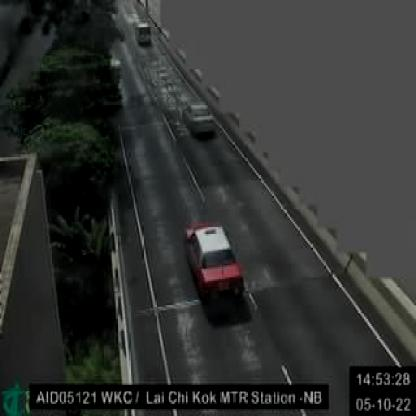Car: (184, 222, 246, 301), (182, 99, 214, 132)
